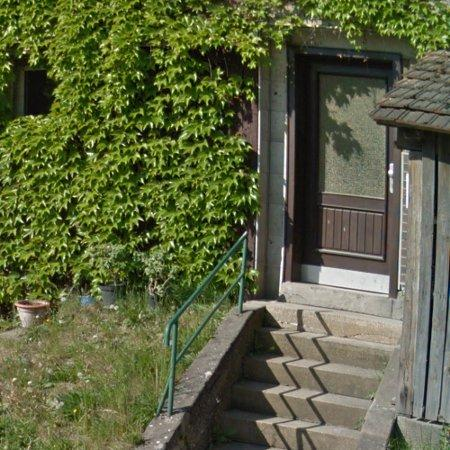stairs: (210, 296, 402, 450)
